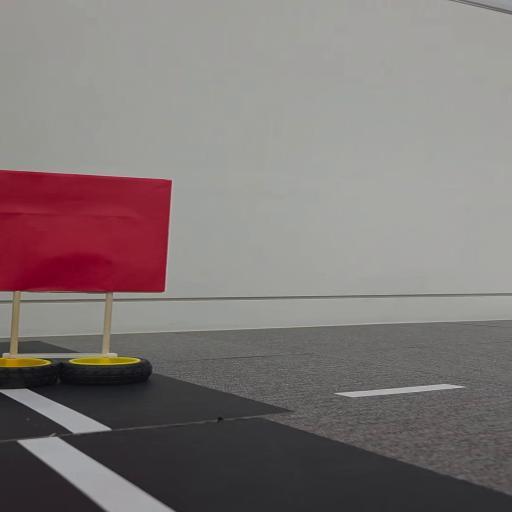Sign_A: (3, 169, 179, 395)
